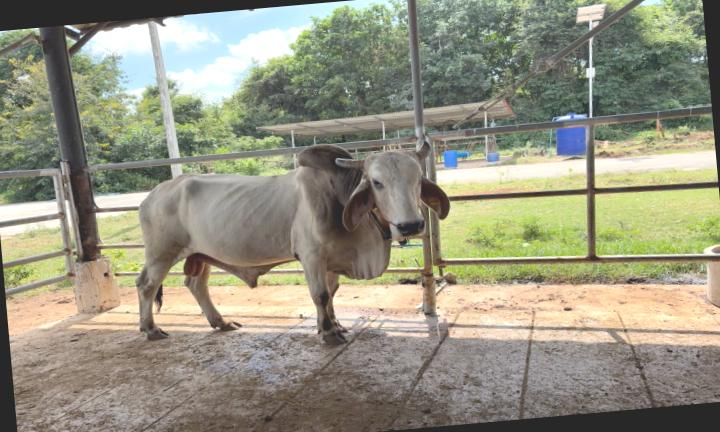Brahman: (136, 143, 450, 342)
